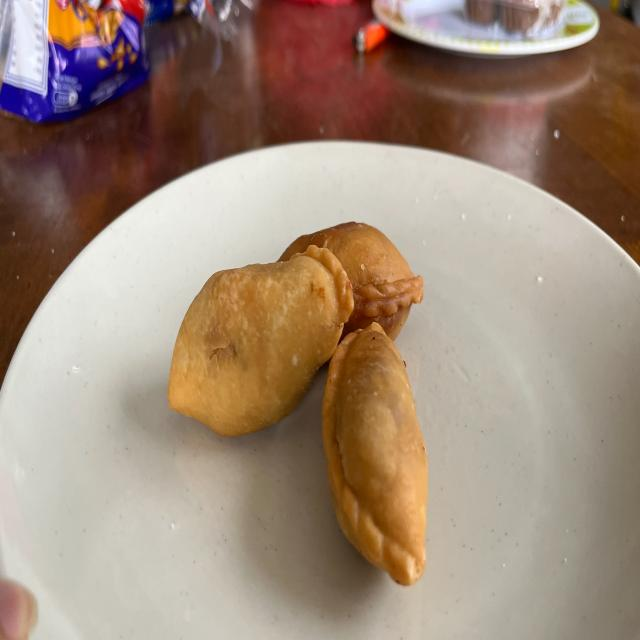karipap: (168, 247, 351, 436), (322, 322, 428, 584), (280, 222, 424, 340)
